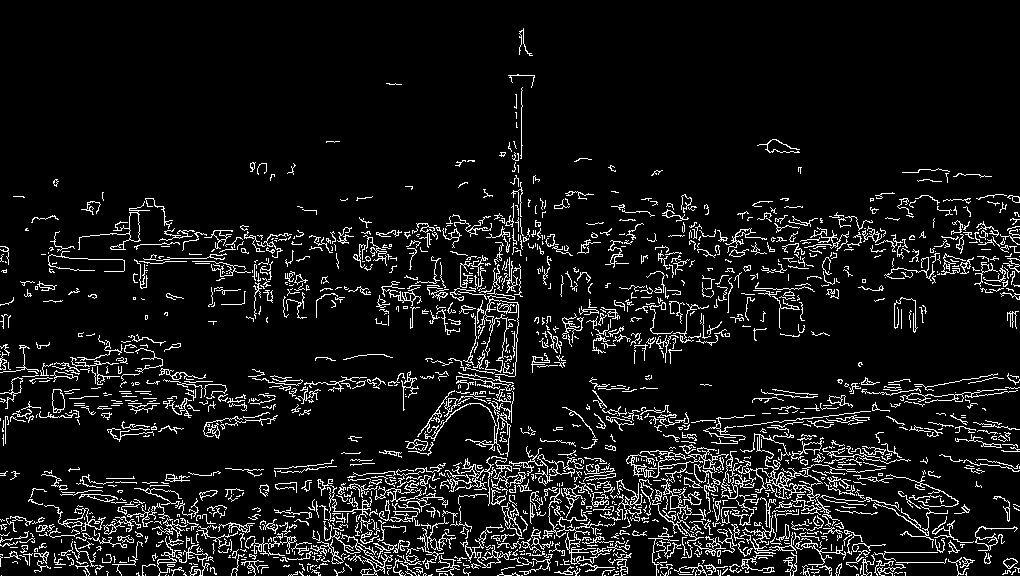eiffel tower: (418, 28, 617, 463)
